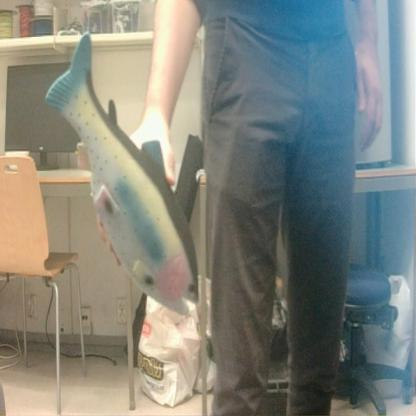rubberfish: (30, 29, 204, 322)
